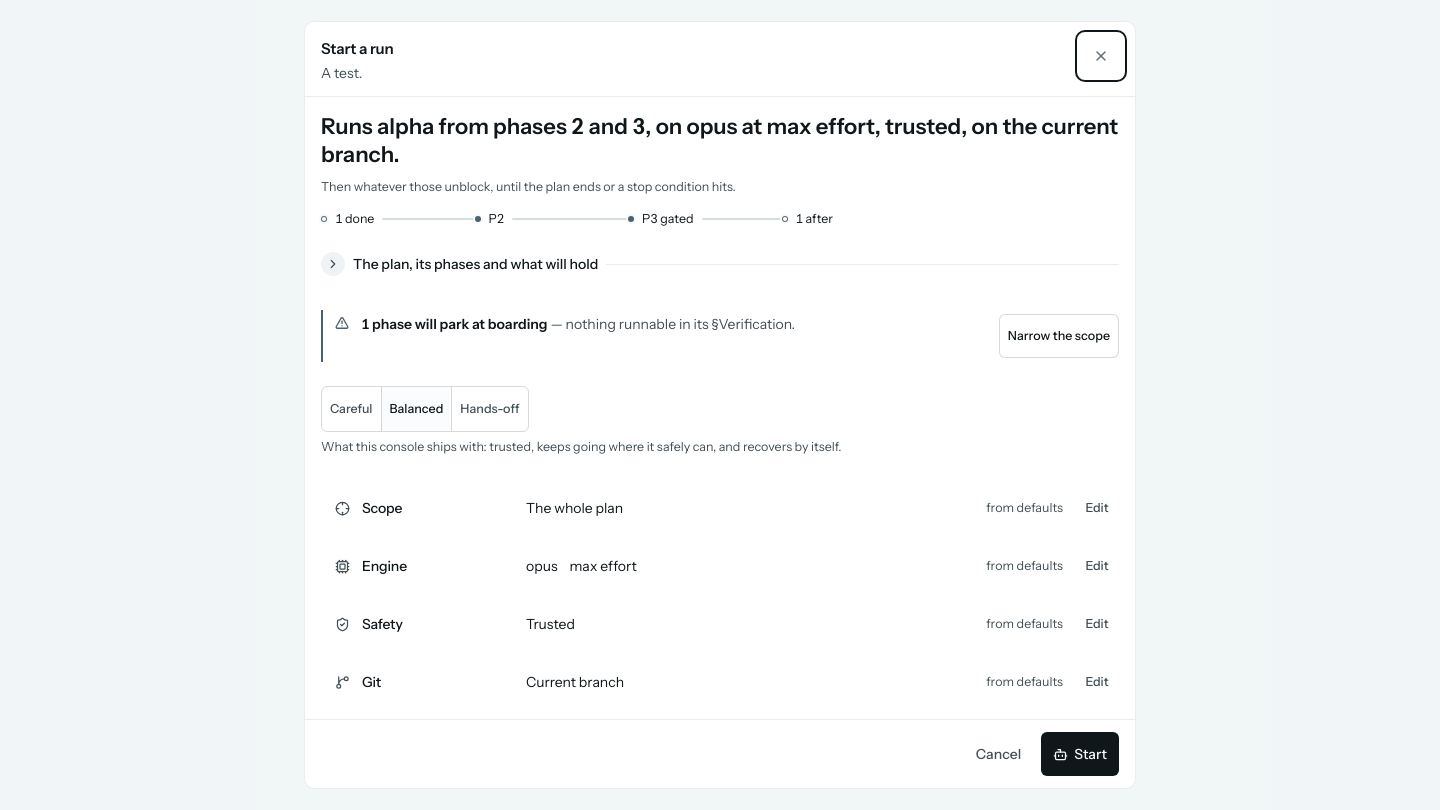
the quick view › expands one tile at a time, in place, onto the existing controls
expect the button "Start" is shown: met, box [1041,732,1119,776]
Click the button "Edit" in the row of "Safety". click: click(1097, 624)
box: [1075,602,1119,646]
(page scrolled)
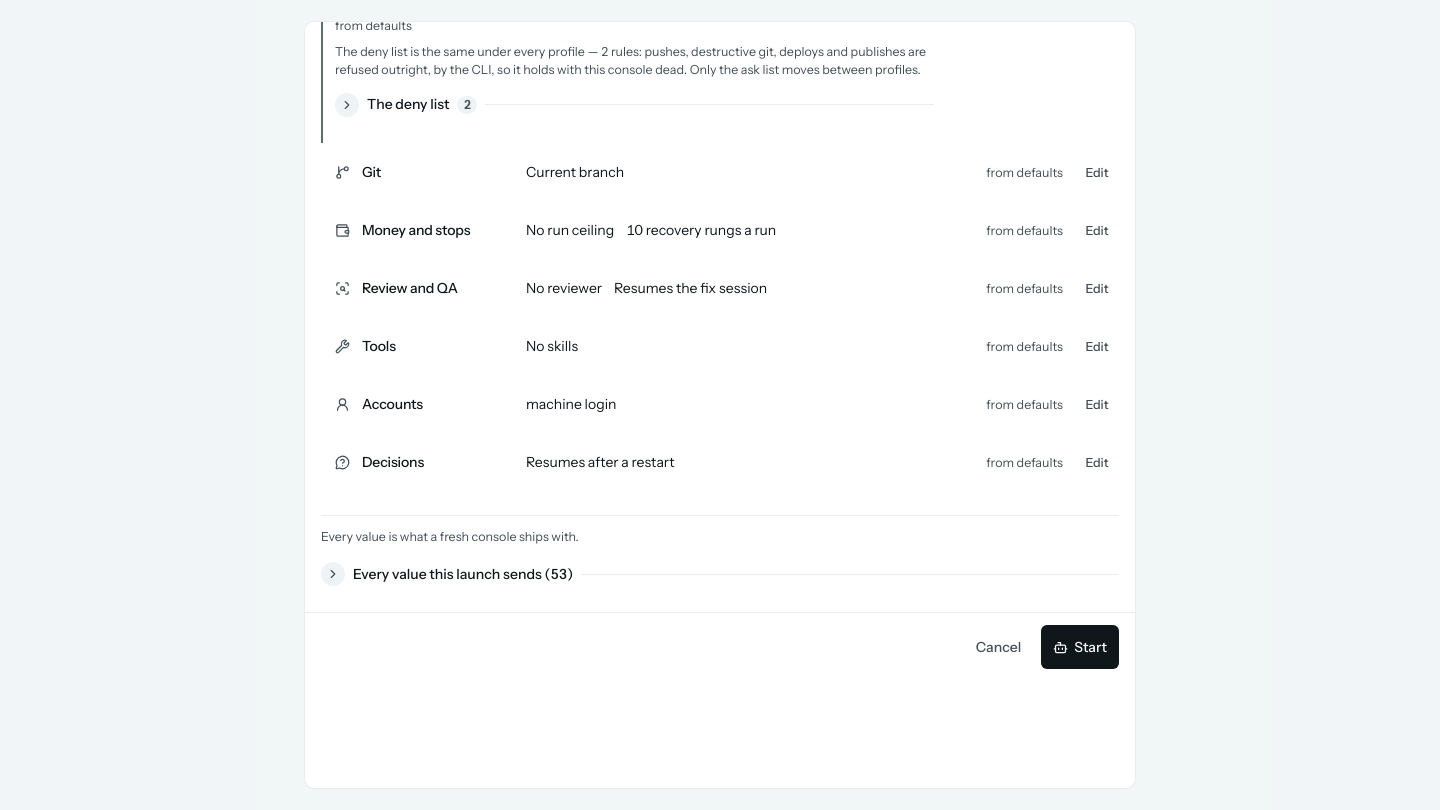
expect the text "The deny list is the same under every profile — 2 rules" is shown: met, box [335,43,934,79]
Click the button "Edit" in the row of "machine login". click: click(1097, 405)
box: [1075,383,1119,427]
(page scrolled)
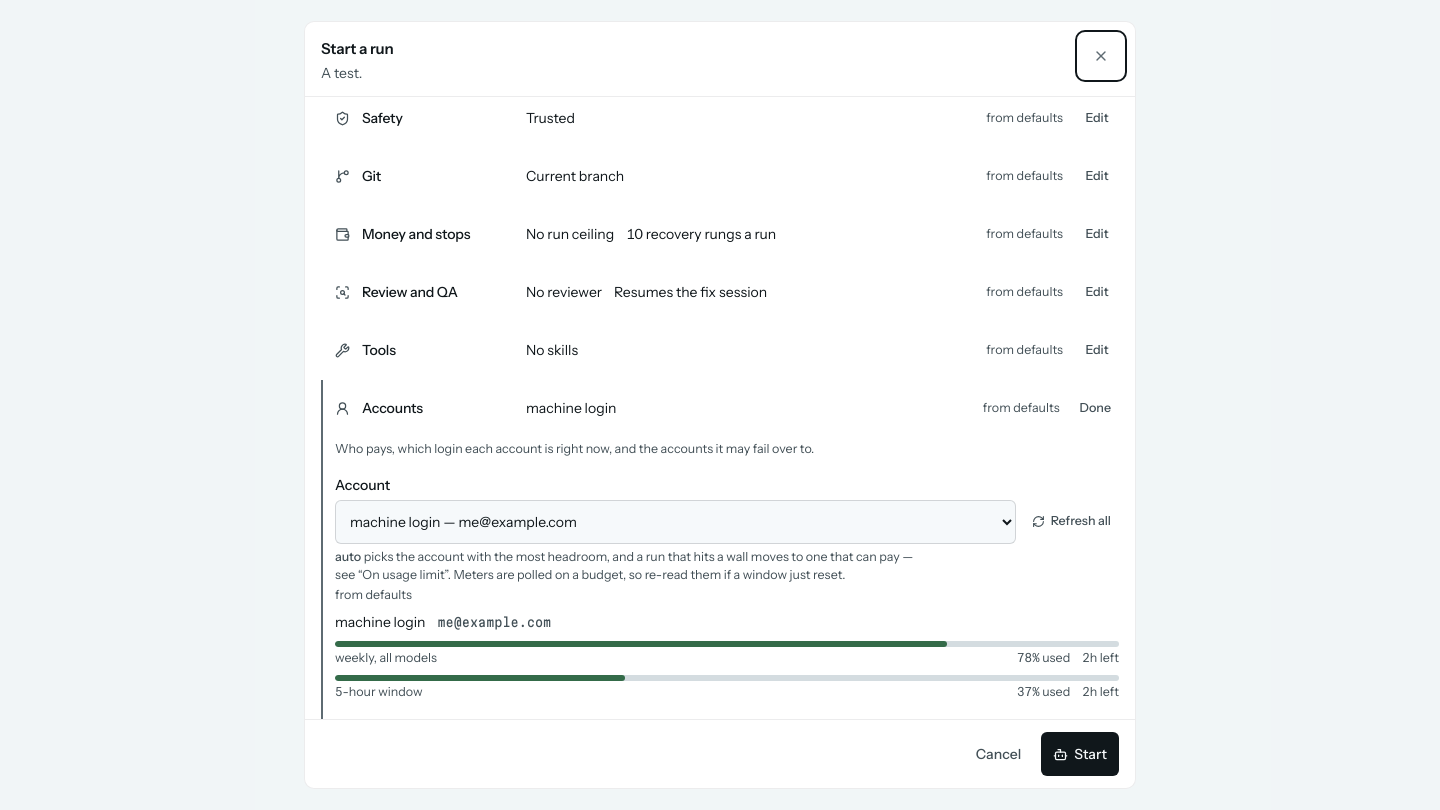
Click the button with aria-label "Done Accounts". click: click(1095, 408)
box: [1072,386,1119,430]
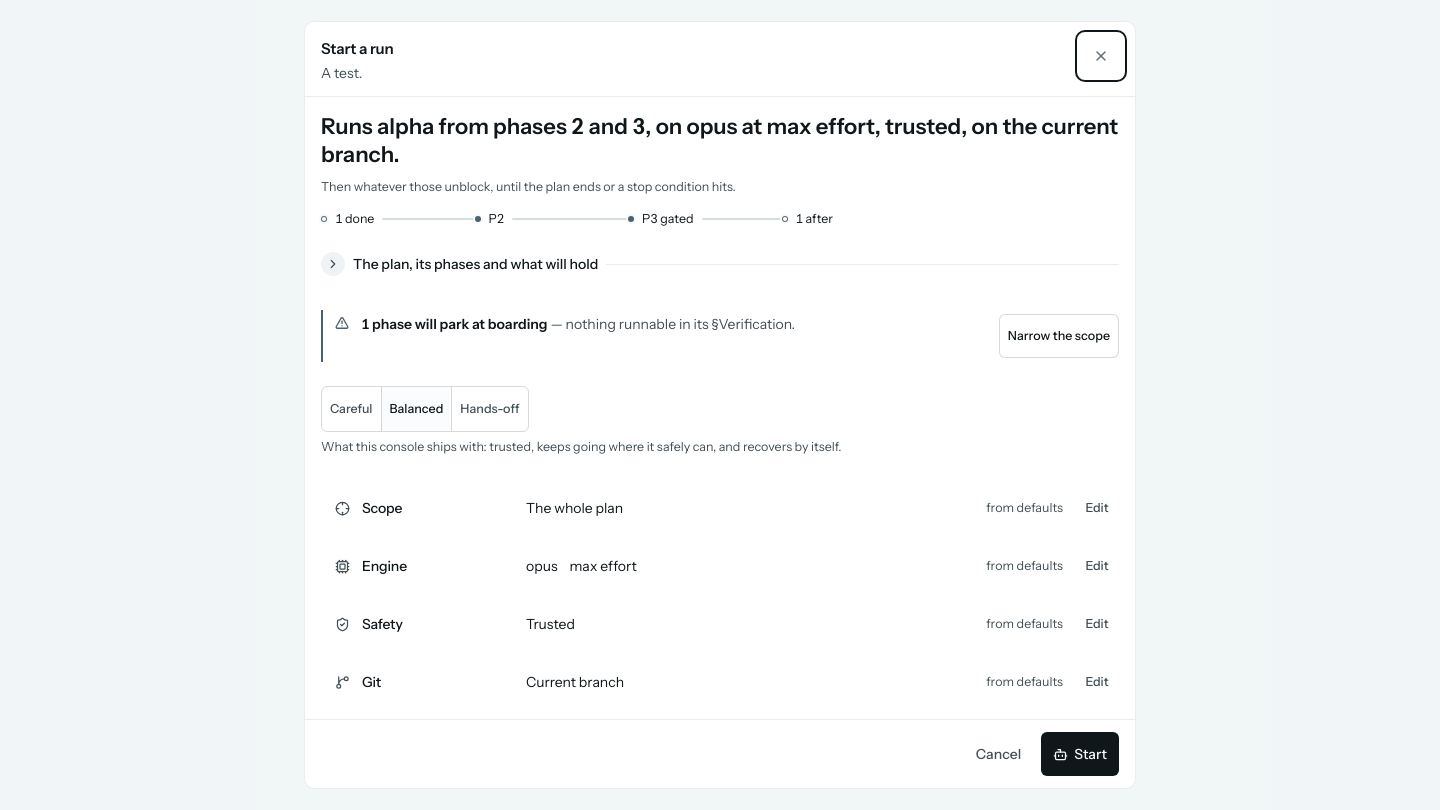
expect the heading "Accounts" is gone: met
